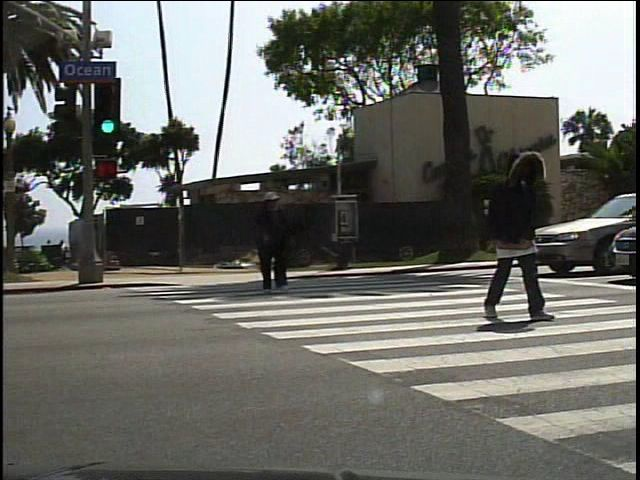person: (473, 142, 563, 340), (251, 188, 298, 298)
